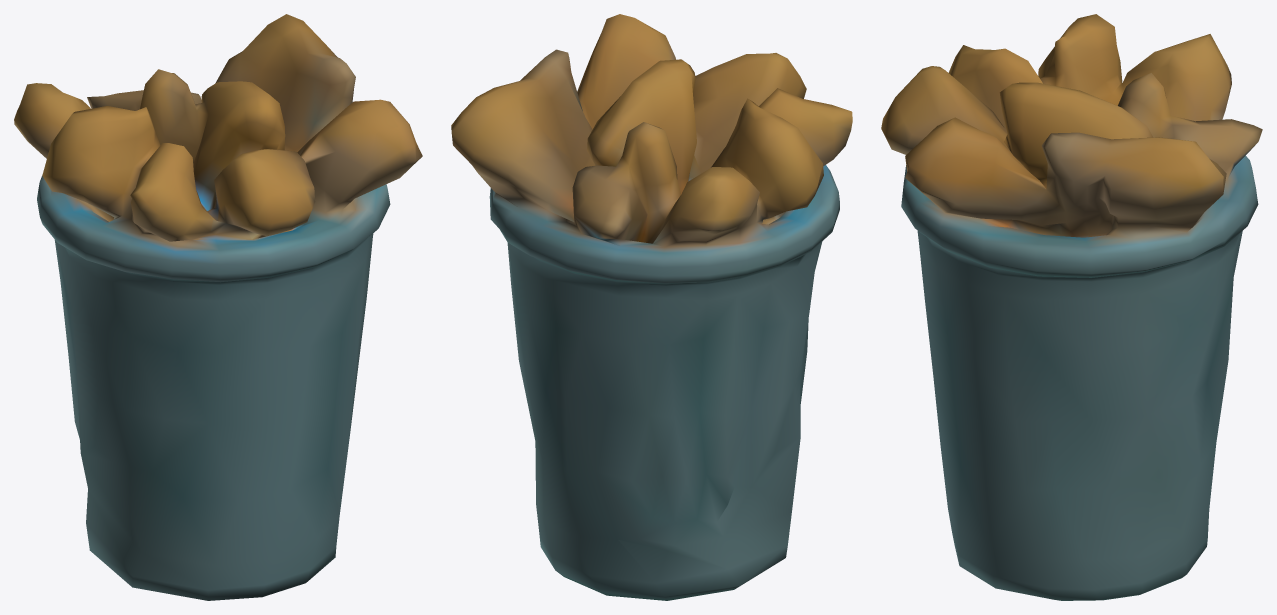
Rendered from 6388689-trash-bin-modern.glb.
3 views of the same model, side by side, from view 1: azimuth 30°, elevation 25°; view 2: azimuth 150°, elevation 25°; view 3: azimuth 270°, elevation 25° (orthographic). The views are drawn at different scales.
Parts seen in each view (by area): view 1: Retopo_neural_node_9f270487-20af-4058-b6ca-0b6ee7572c61; view 2: Retopo_neural_node_9f270487-20af-4058-b6ca-0b6ee7572c61; view 3: Retopo_neural_node_9f270487-20af-4058-b6ca-0b6ee7572c61.
Boxes of the visible parts, <box> form: Retopo_neural_node_9f270487-20af-4058-b6ca-0b6ee7572c61: <box>14,14,422,600</box>; Retopo_neural_node_9f270487-20af-4058-b6ca-0b6ee7572c61: <box>451,14,852,600</box>; Retopo_neural_node_9f270487-20af-4058-b6ca-0b6ee7572c61: <box>881,14,1262,600</box>.
Size of the model in its own units: 0.6653 by 0.9453 by 0.6809.
